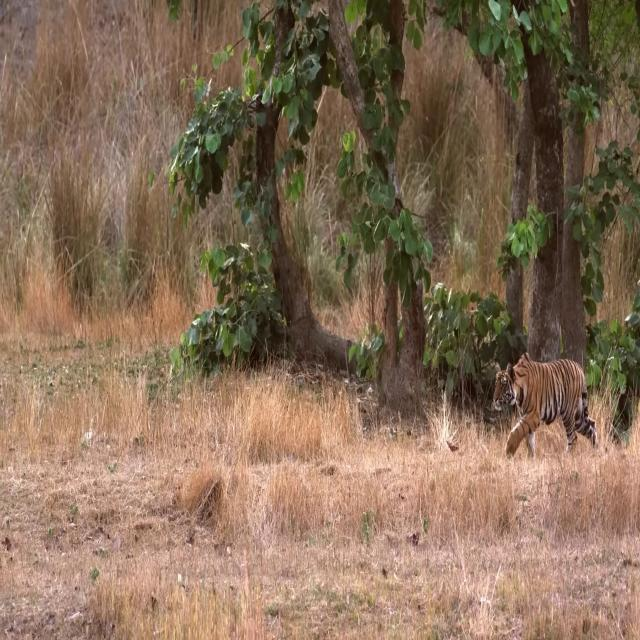tiger: (492, 353, 598, 455)
